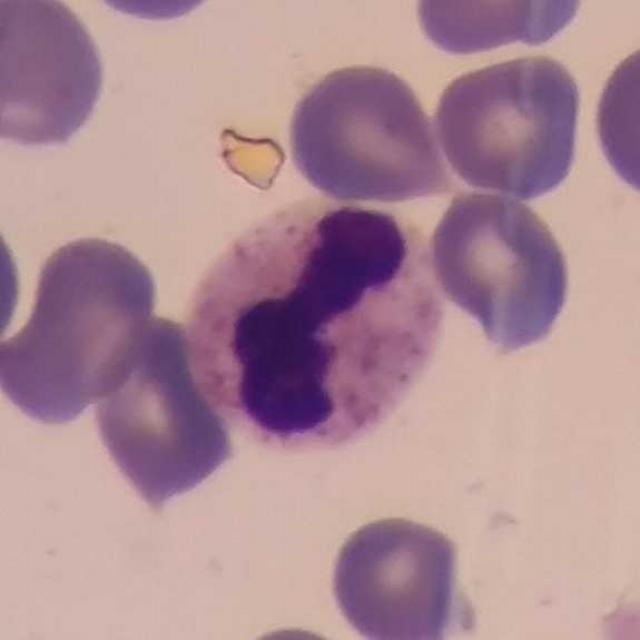Neutrophil: (175, 187, 452, 471)
Platelets: (585, 583, 640, 640)
RBC: (1, 225, 164, 426), (86, 318, 242, 511), (423, 184, 579, 358), (284, 58, 450, 207), (430, 49, 590, 201), (322, 508, 476, 640), (0, 0, 111, 157), (586, 31, 640, 208), (405, 0, 563, 59), (62, 0, 235, 28), (0, 204, 28, 360)
